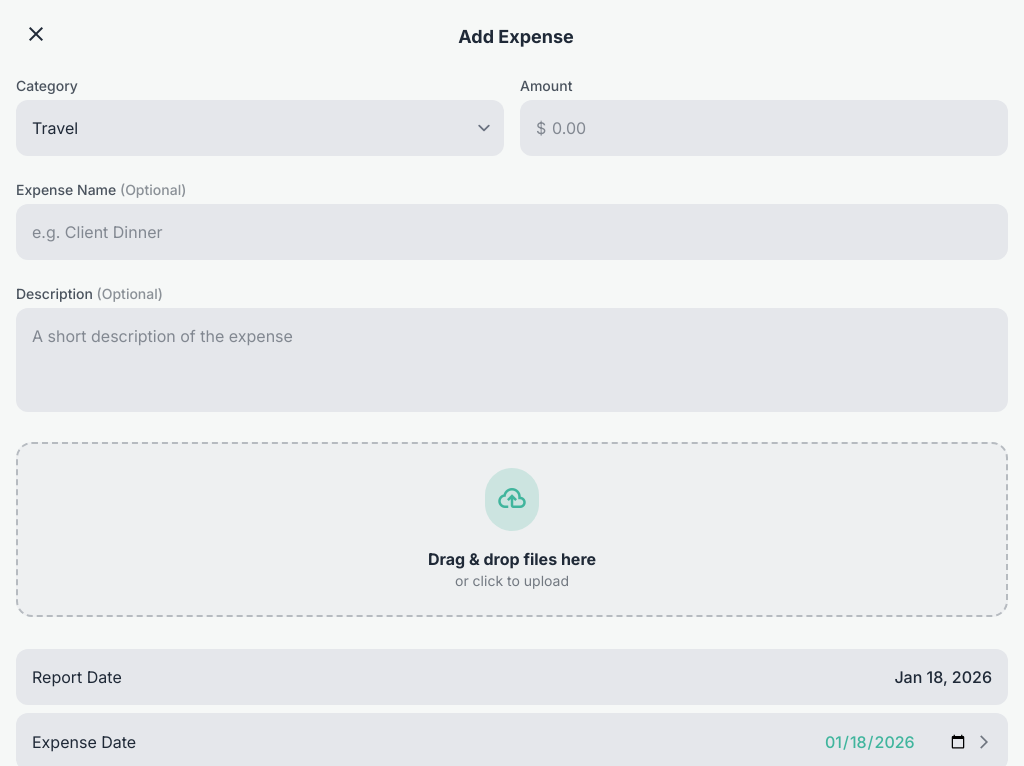
Test: AddExpensePage › Form Submission › should show loading state during submission
The image size is (1024, 766).
In the field with placeholder "0.00": {"x": 764, "y": 128} [520,100,1008,156], type "100"
(page scrolled)
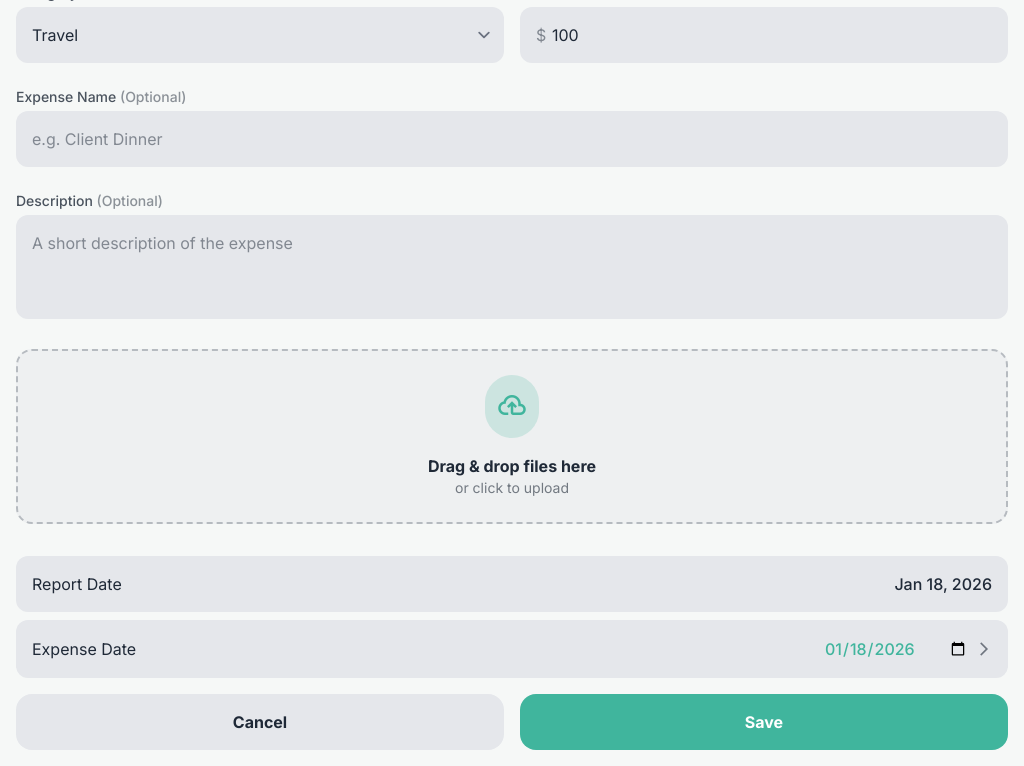
Click the button "Save": {"x": 764, "y": 722} [520,694,1008,750]
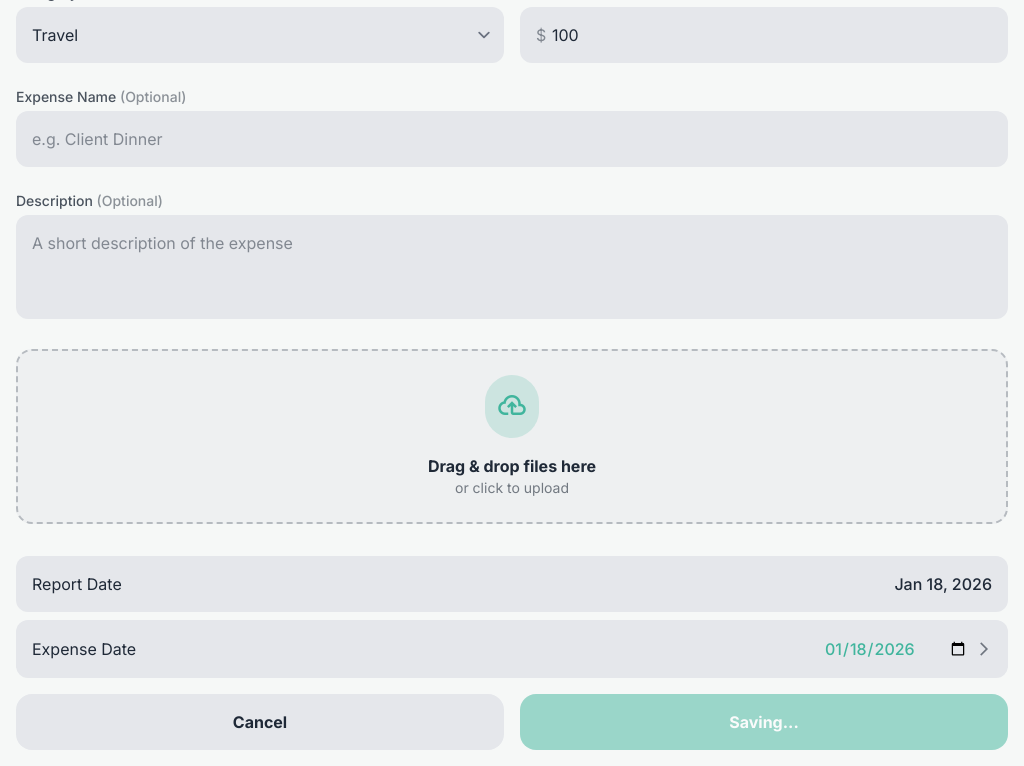
Check: the button "Saving..." is disabled, box [520,694,1008,750]
